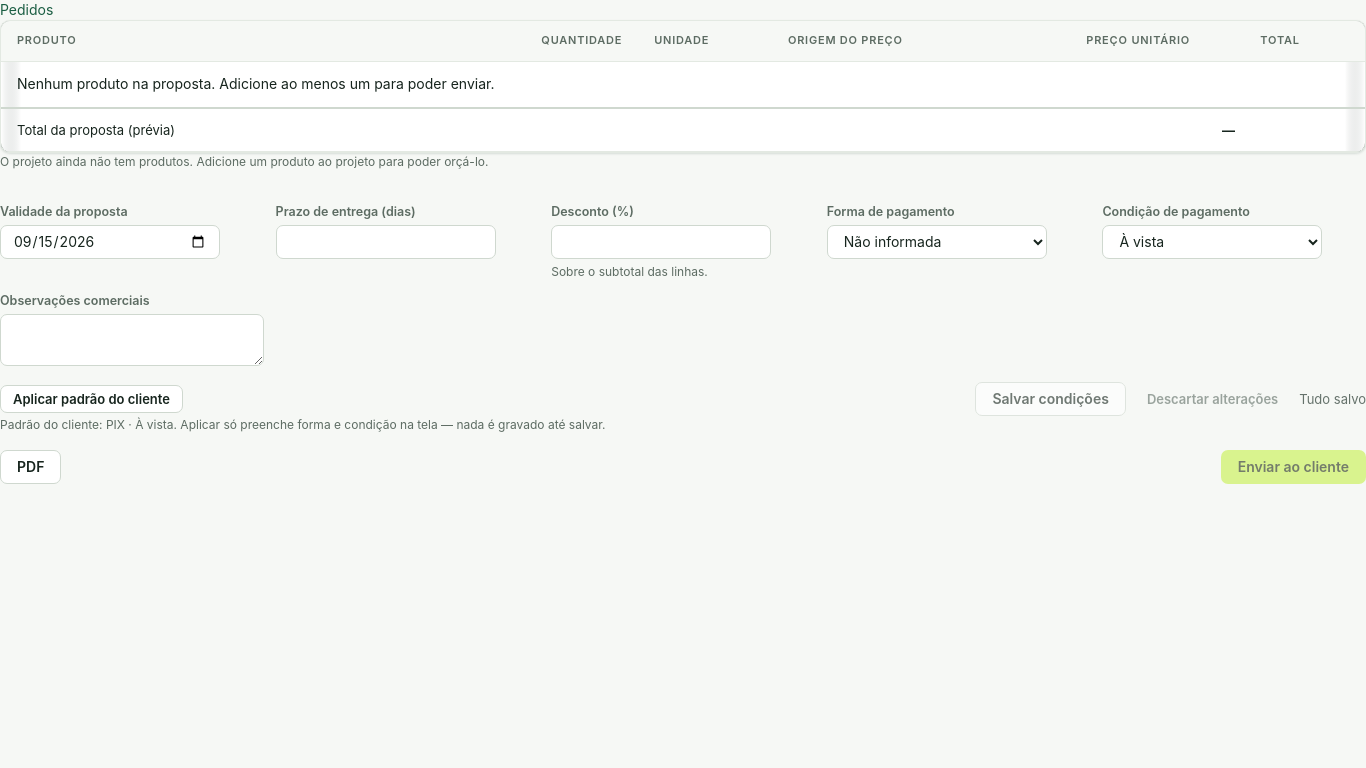
Test: Orçamento — guarda de alterações não salvas › padrão do cliente aplicado e não salvo pergunta antes de sair — é a mesma pendência
The image size is (1366, 768).
Click the button "Aplicar padrão do cliente": [92, 399] box [0,385,183,413]
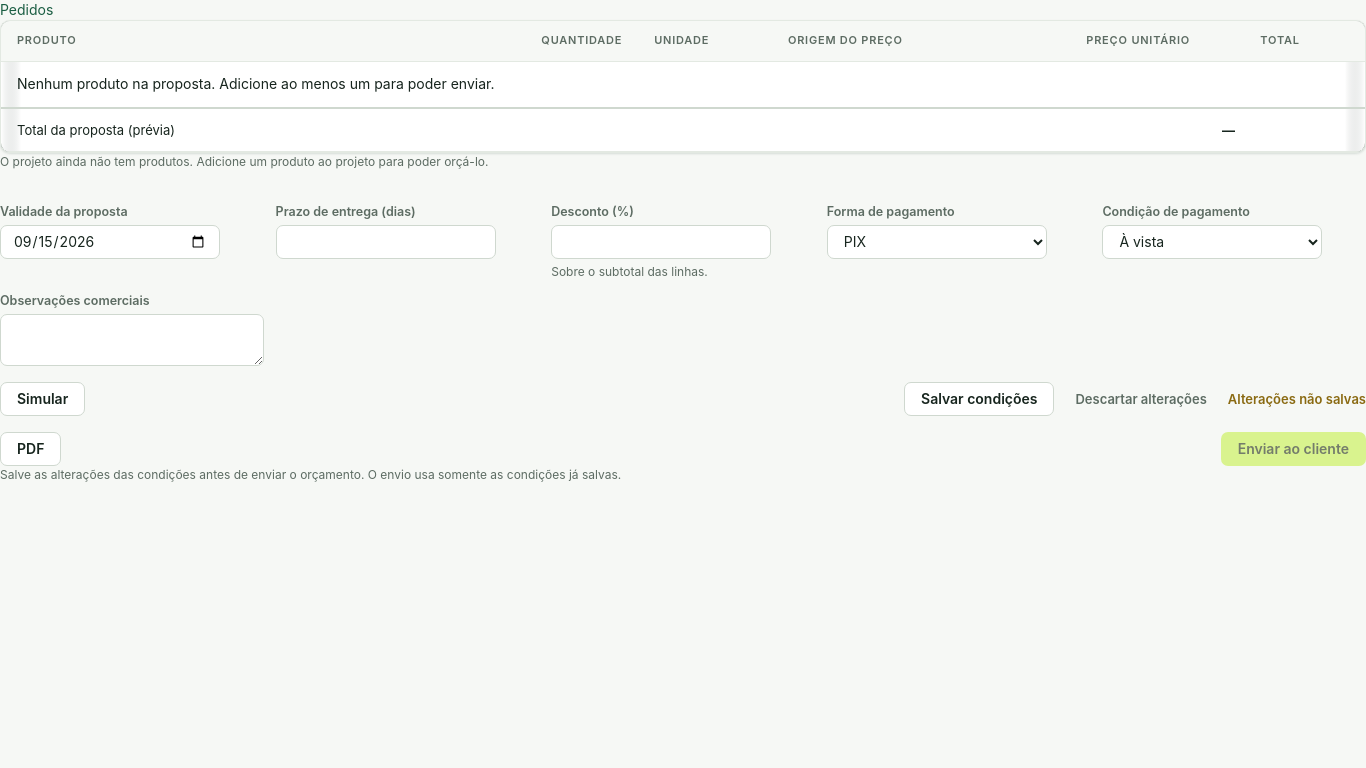
Expected: the text "Alterações não salvas" is shown, [1228,390,1365,409]
Click the link "Pedidos": [27, 10] box [0,1,53,18]
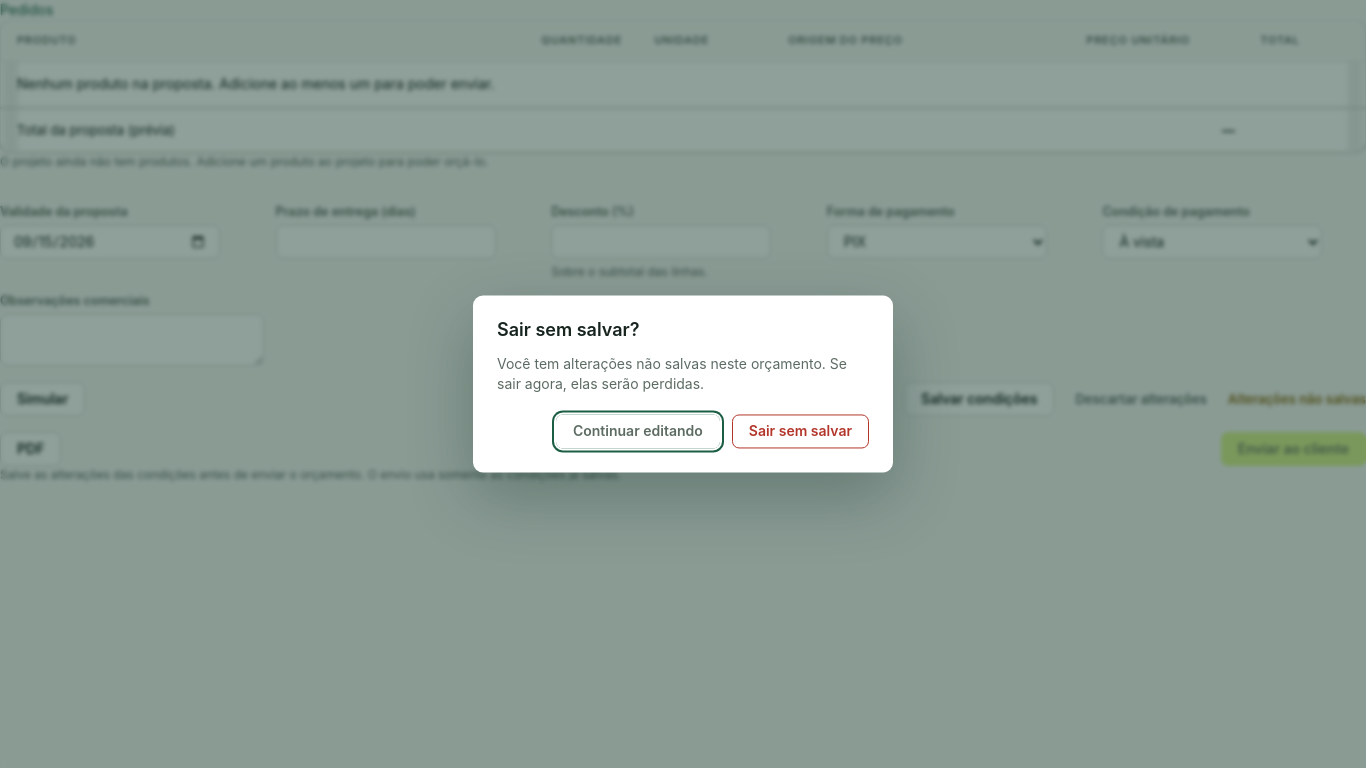
Expected: the heading "Sair sem salvar?" is shown, [497,320,640,340]
